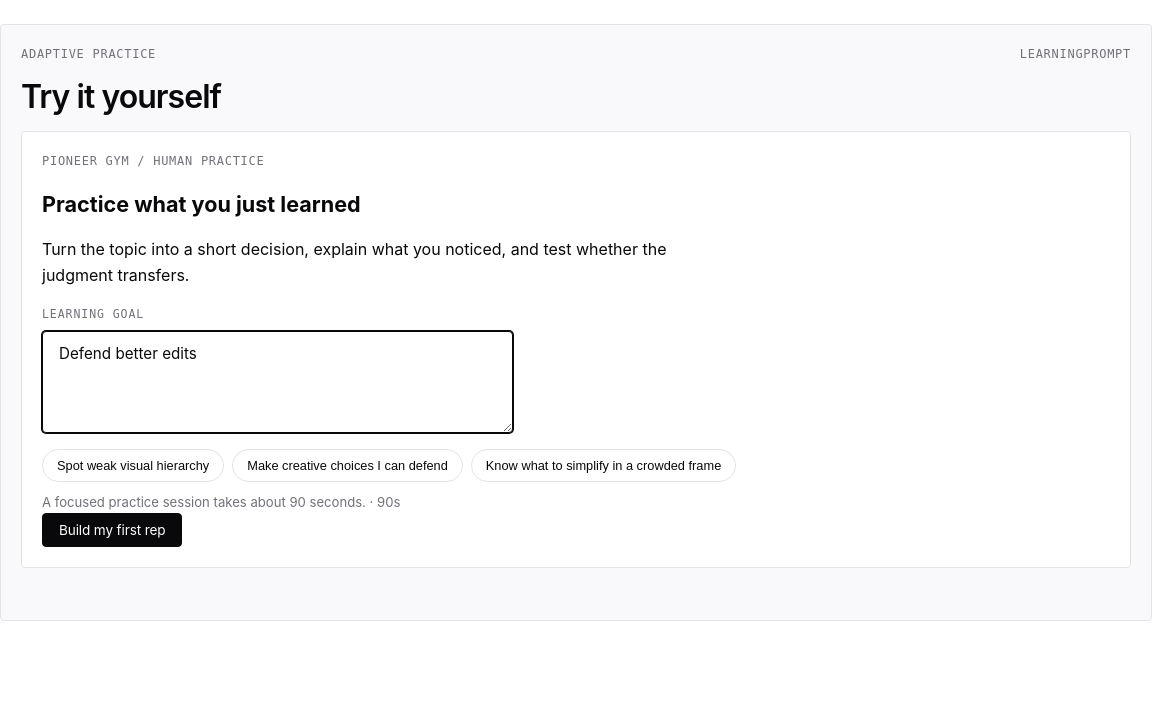
Test: NovelGymPanel › starts from the complete shell command and never reconstructs its identity
The width and height of the screenshot is (1152, 712).
Expected: the form with test id "LearningPrompt" is shown, [21,131,1131,568]
Click the button "Build my first rep".
click(112, 530)  # box [42,513,182,547]
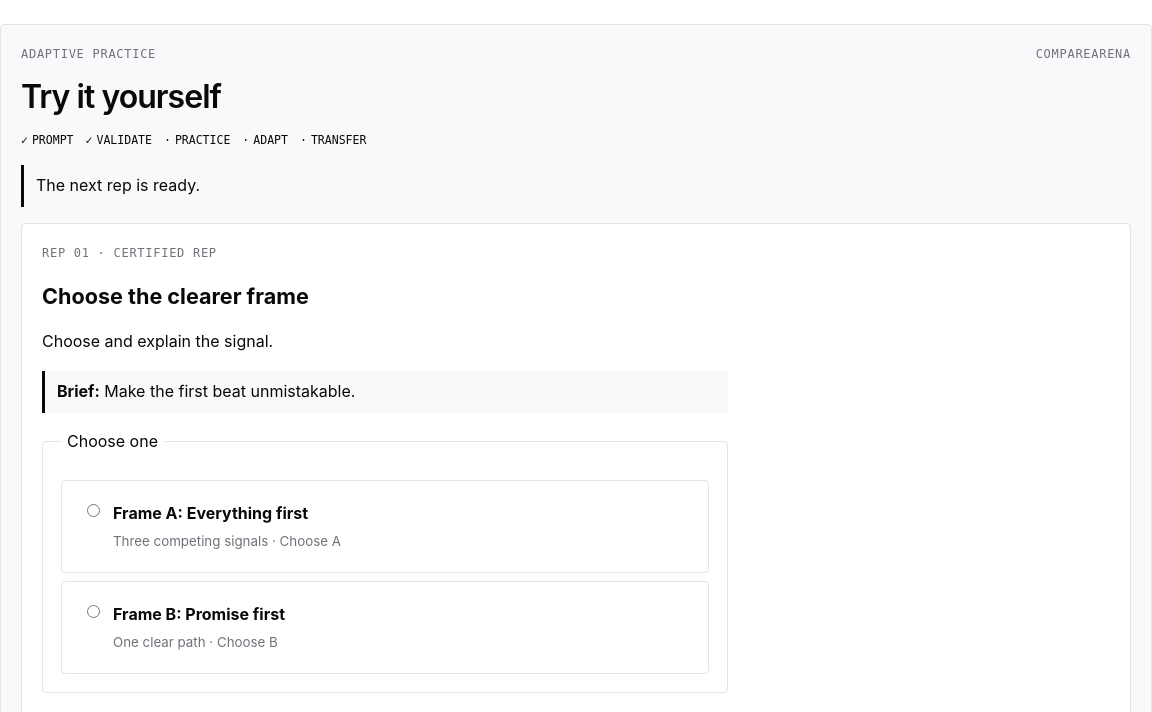
Expected: the list named "Practice progress" is shown, [21,133,366,147]
